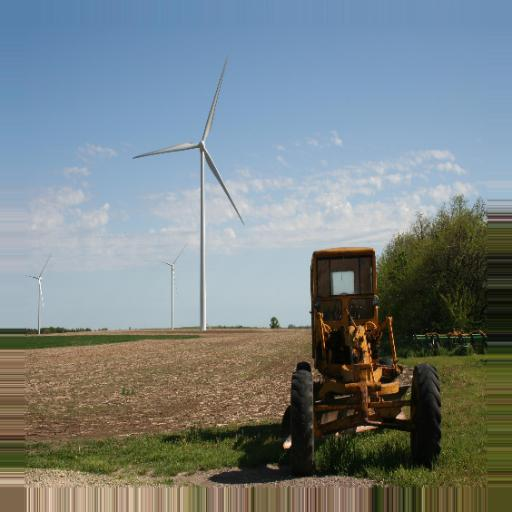wind turbine: (129, 56, 247, 331), (155, 238, 192, 324), (21, 252, 51, 336)
